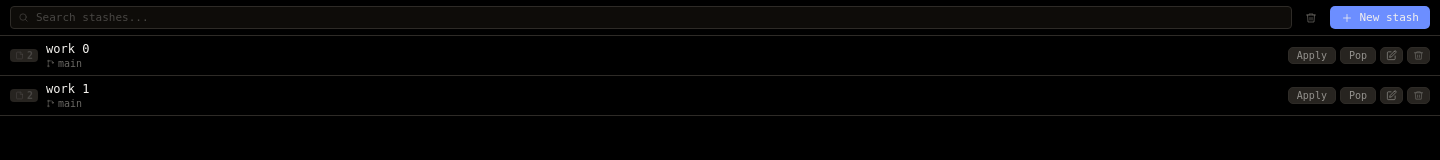
Scenario: StashView › applying and popping › shows a spinner on the row it is working on, not on the others
What coordinates should you click on to do the following:
click the 6th button with class "stash-action-btn"
I would click on:
 (1358, 96)
Its box is [1340,87,1376,104].
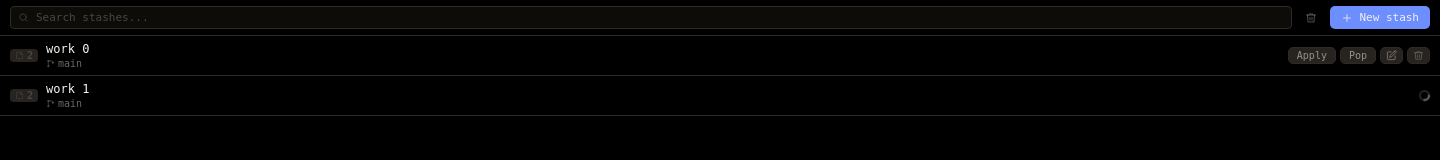
Result: the icon with class "spinner" is shown at [1419,90,1430,101]
